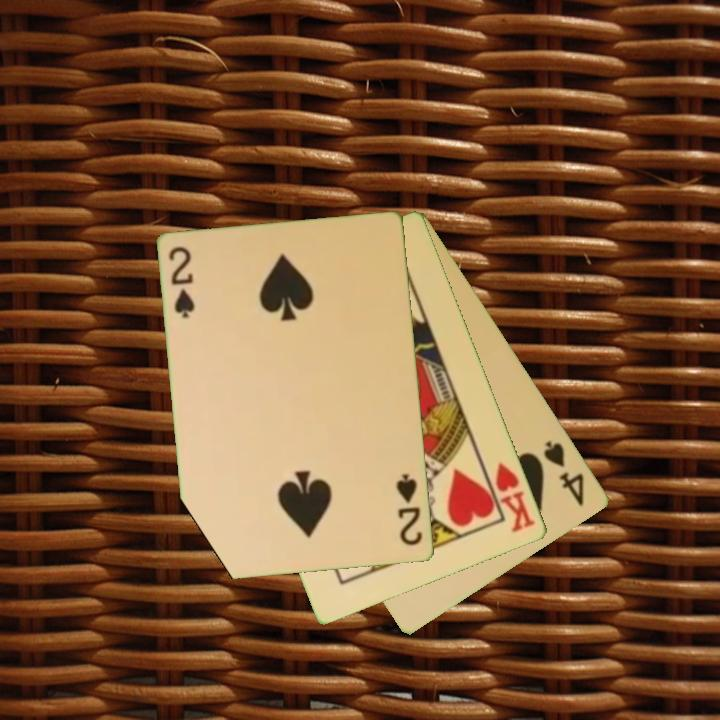2s: (393, 470, 426, 549), (166, 243, 198, 322)
4s: (540, 437, 588, 509)
Kh: (481, 459, 538, 536)
